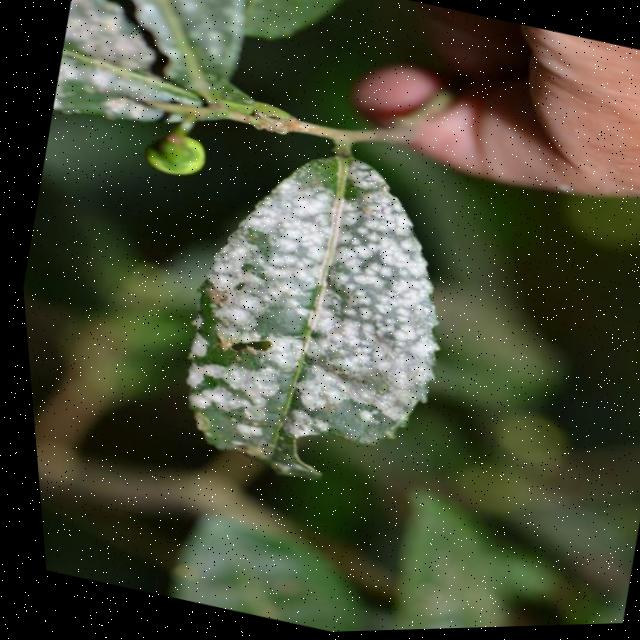Tea algae leaf spot: (135, 137, 461, 493)
